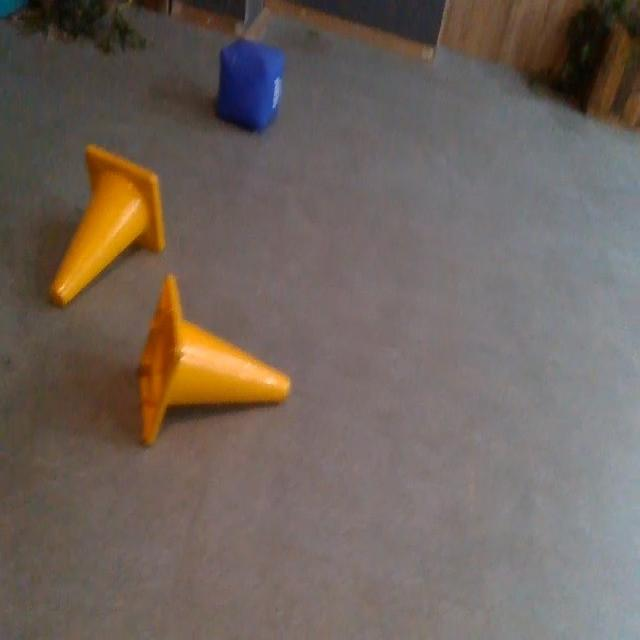cone: (136, 276, 290, 444), (51, 144, 165, 308)
cube: (215, 41, 282, 134)
